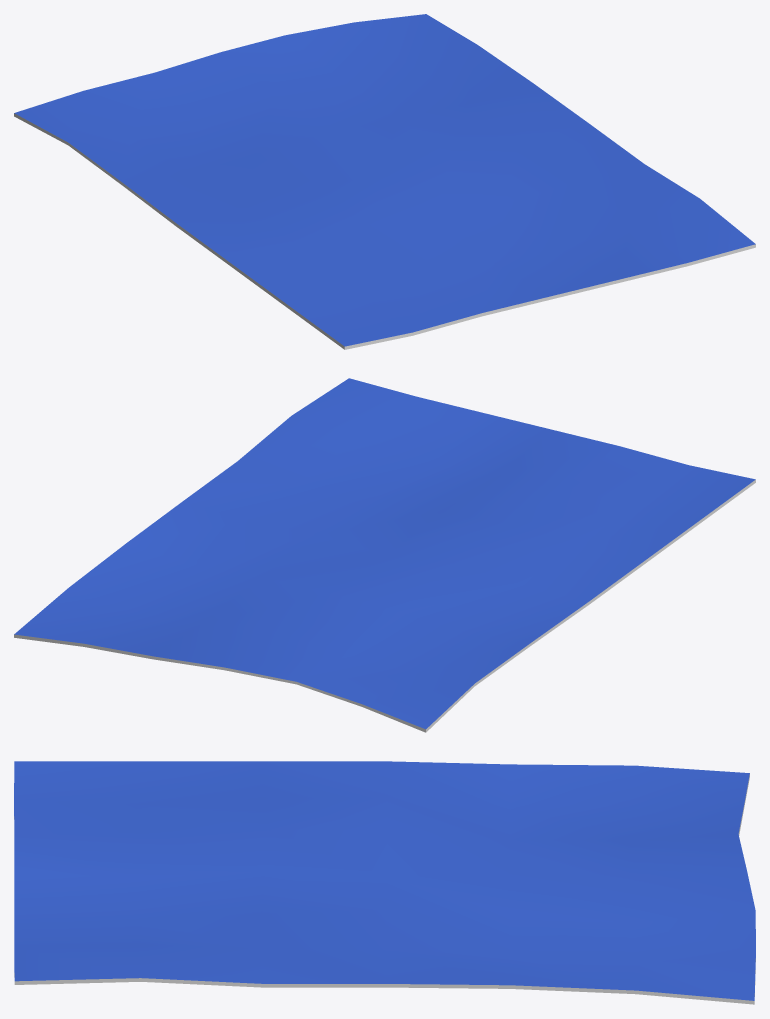
File: Paper.fbx
3 renders of one model, top to bottom at view 1: azimuth 30°, elevation 25°; view 2: azimuth 150°, elevation 25°; view 3: azimuth 270°, elevation 25°, orthographic. The views are drawn at different scales.
Parts seen in each view (by area): view 1: Paper; view 2: Paper; view 3: Paper.
Boxes of the visible parts, x1,y1,x2,y2 form: Paper: [14, 14, 755, 349]; Paper: [14, 378, 755, 732]; Paper: [14, 761, 755, 1004].
Size of the model in its own units: 614 by 31.55 by 858.
